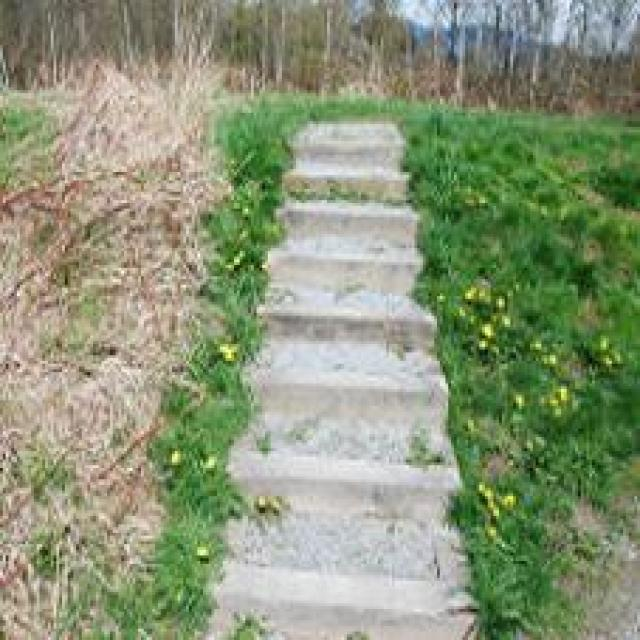upstair: (196, 247, 497, 622)
